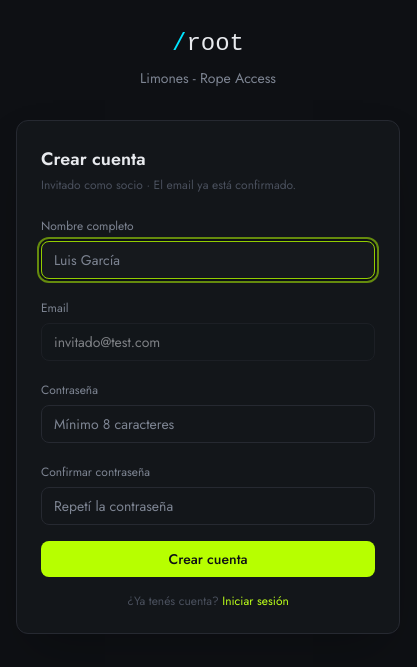
it: RegistroPage — con invitación válida › valida contraseña mínima de 8 caracteres
The width and height of the screenshot is (417, 667).
Expected: the password field with placeholder "Mínimo 8 caracteres" is shown, left=41, top=405, right=375, bottom=443
In the field with placeholder "Luis García": (208, 260) left=41, top=241, right=375, bottom=279, type "Juan"
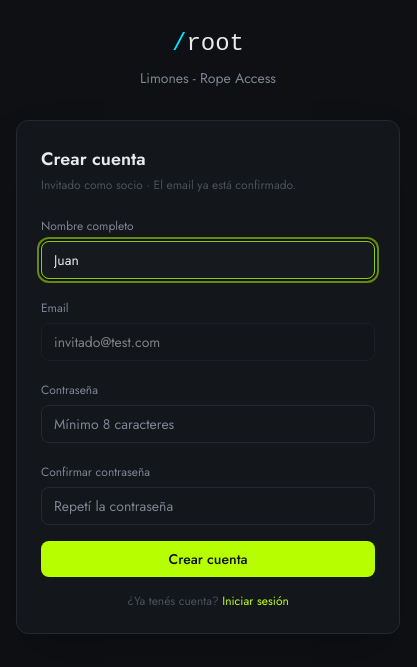
In the password field with placeholder "Mínimo 8 caracteres": (208, 424) left=41, top=405, right=375, bottom=443, type "corta"
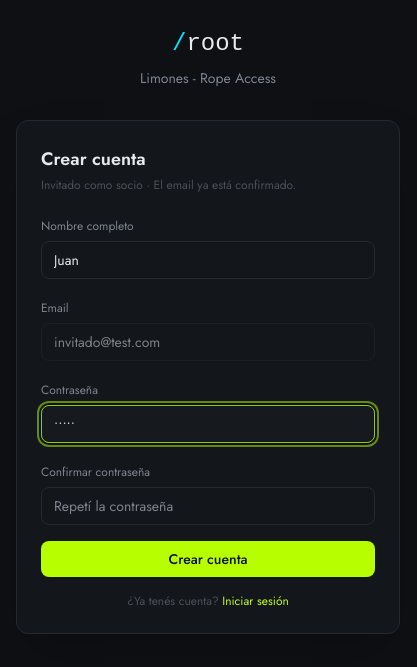
In the password field with placeholder "Repetí la contraseña": (208, 506) left=41, top=487, right=375, bottom=525, type "corta"
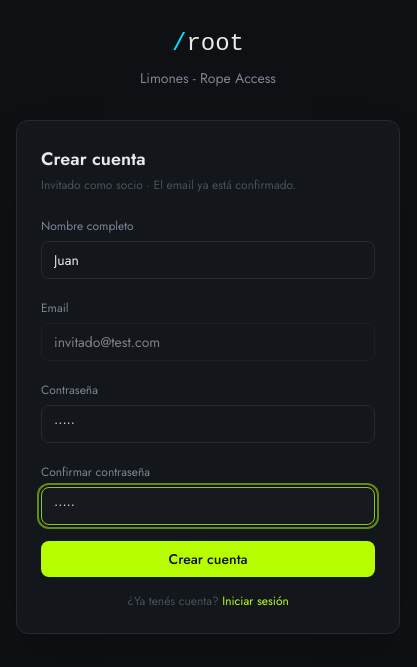
Submit the form with placeholder "mínimo 8", box left=41, top=213, right=375, bottom=577
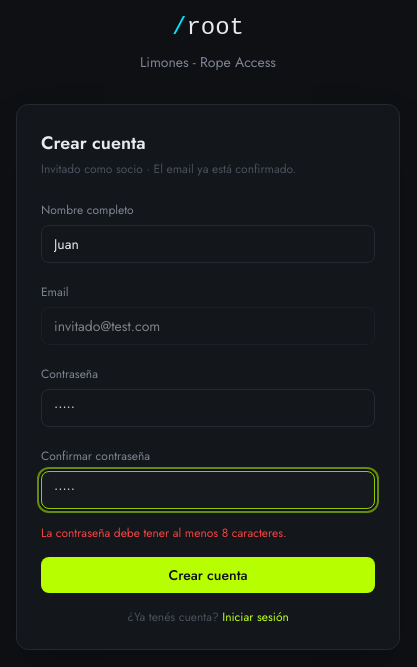
Result: the text "La contraseña debe tener al menos 8 caracteres." is shown at left=41, top=524, right=287, bottom=542
